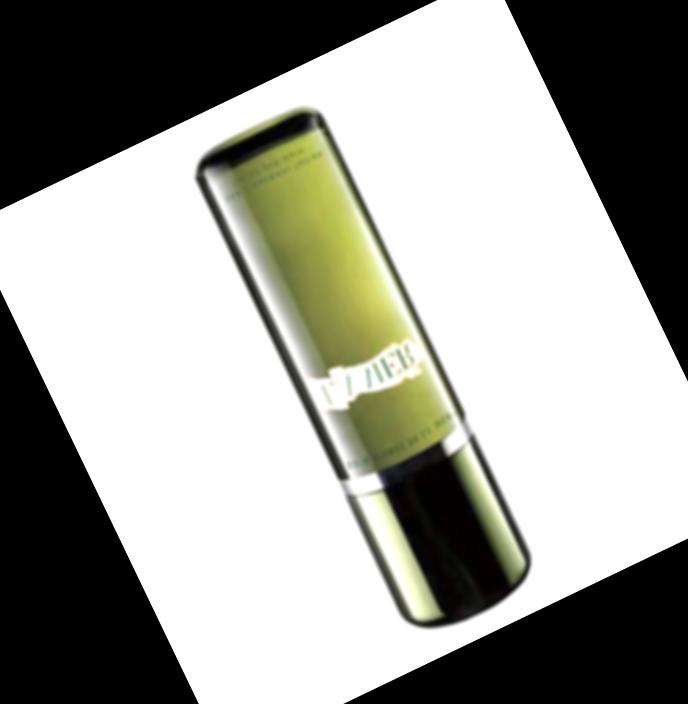cosmetic: (186, 97, 550, 637)
